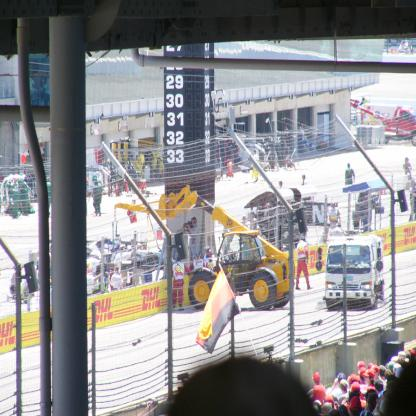Truck: (320, 236, 389, 320)
